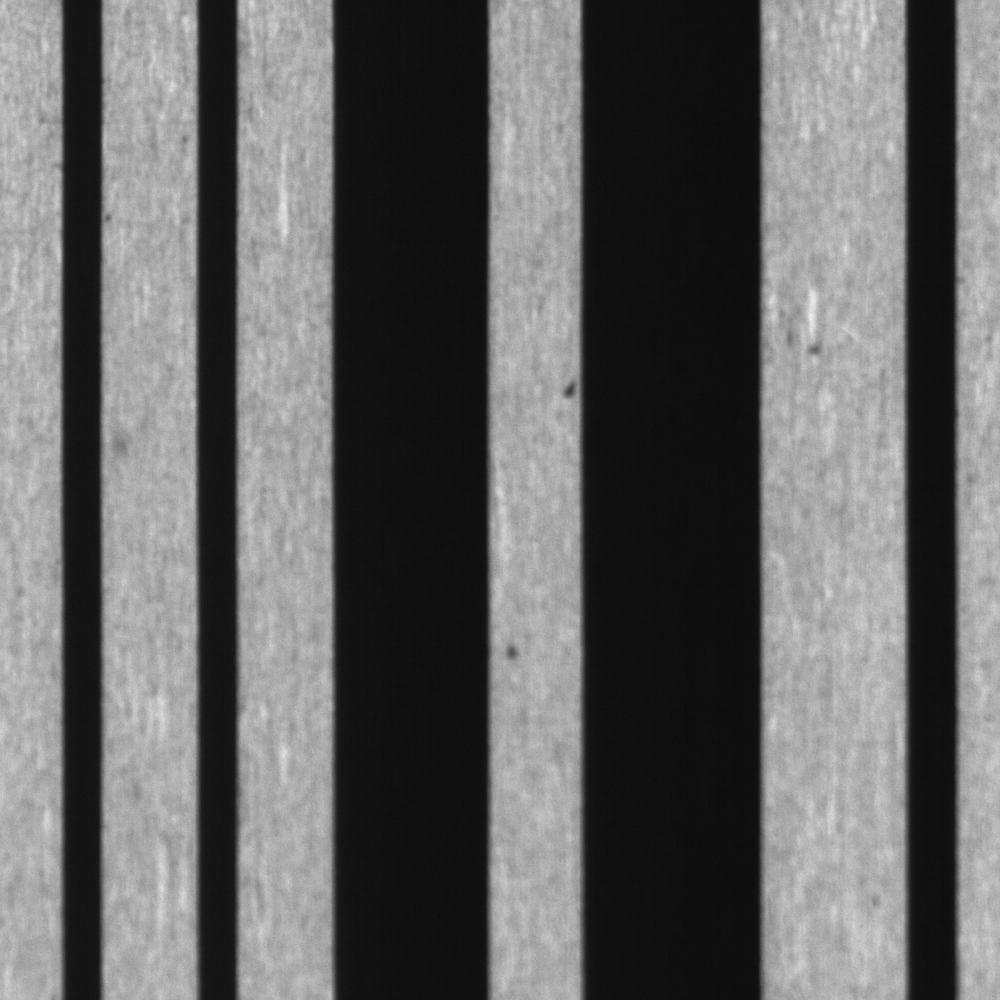Etching: (769, 297, 830, 365), (552, 357, 581, 427)
Pinhole: (494, 625, 534, 676)
